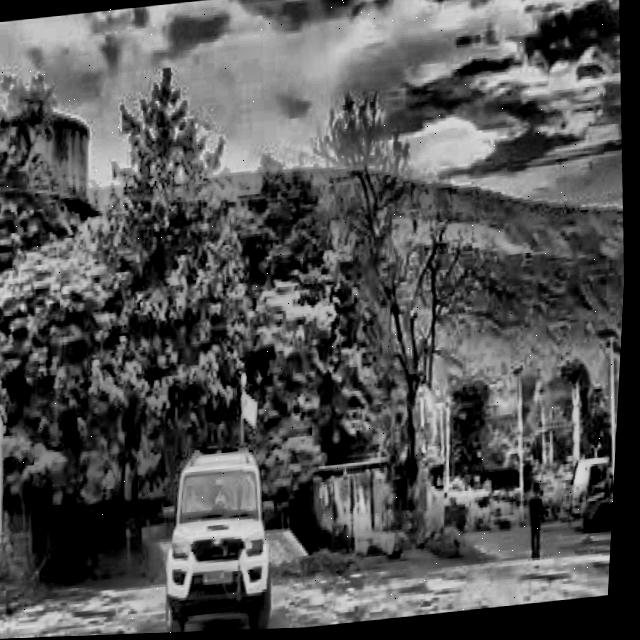light_vehicle: (164, 442, 286, 630)
